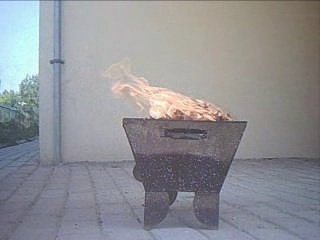fire: (106, 57, 234, 122)
